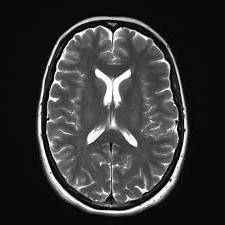Normal_Brain: (23, 14, 213, 225)
